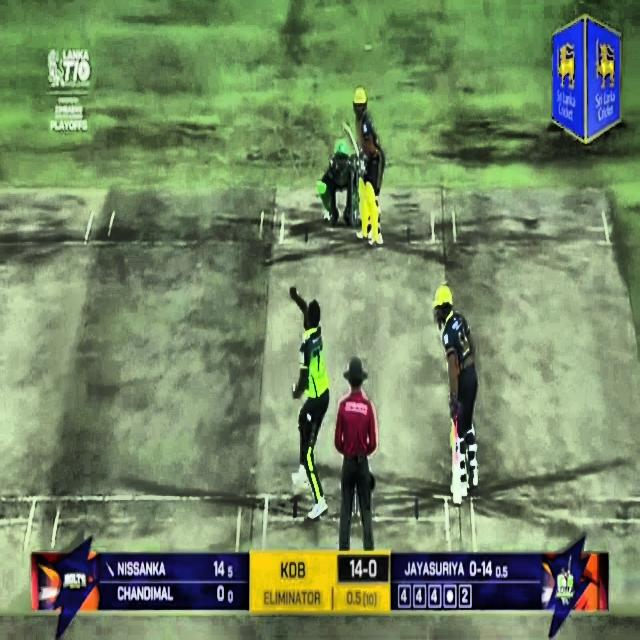Left-stump: (350, 167, 353, 228)
Middle-stump: (356, 168, 359, 227)
